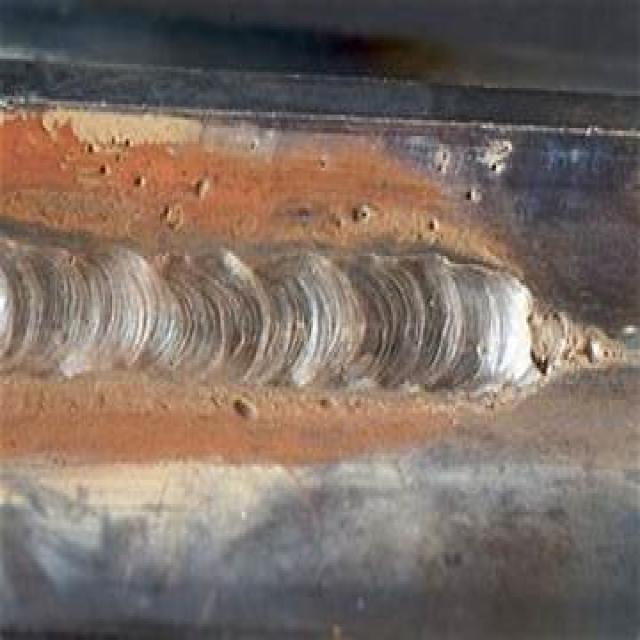Dry Waste: (16, 90, 640, 516)
